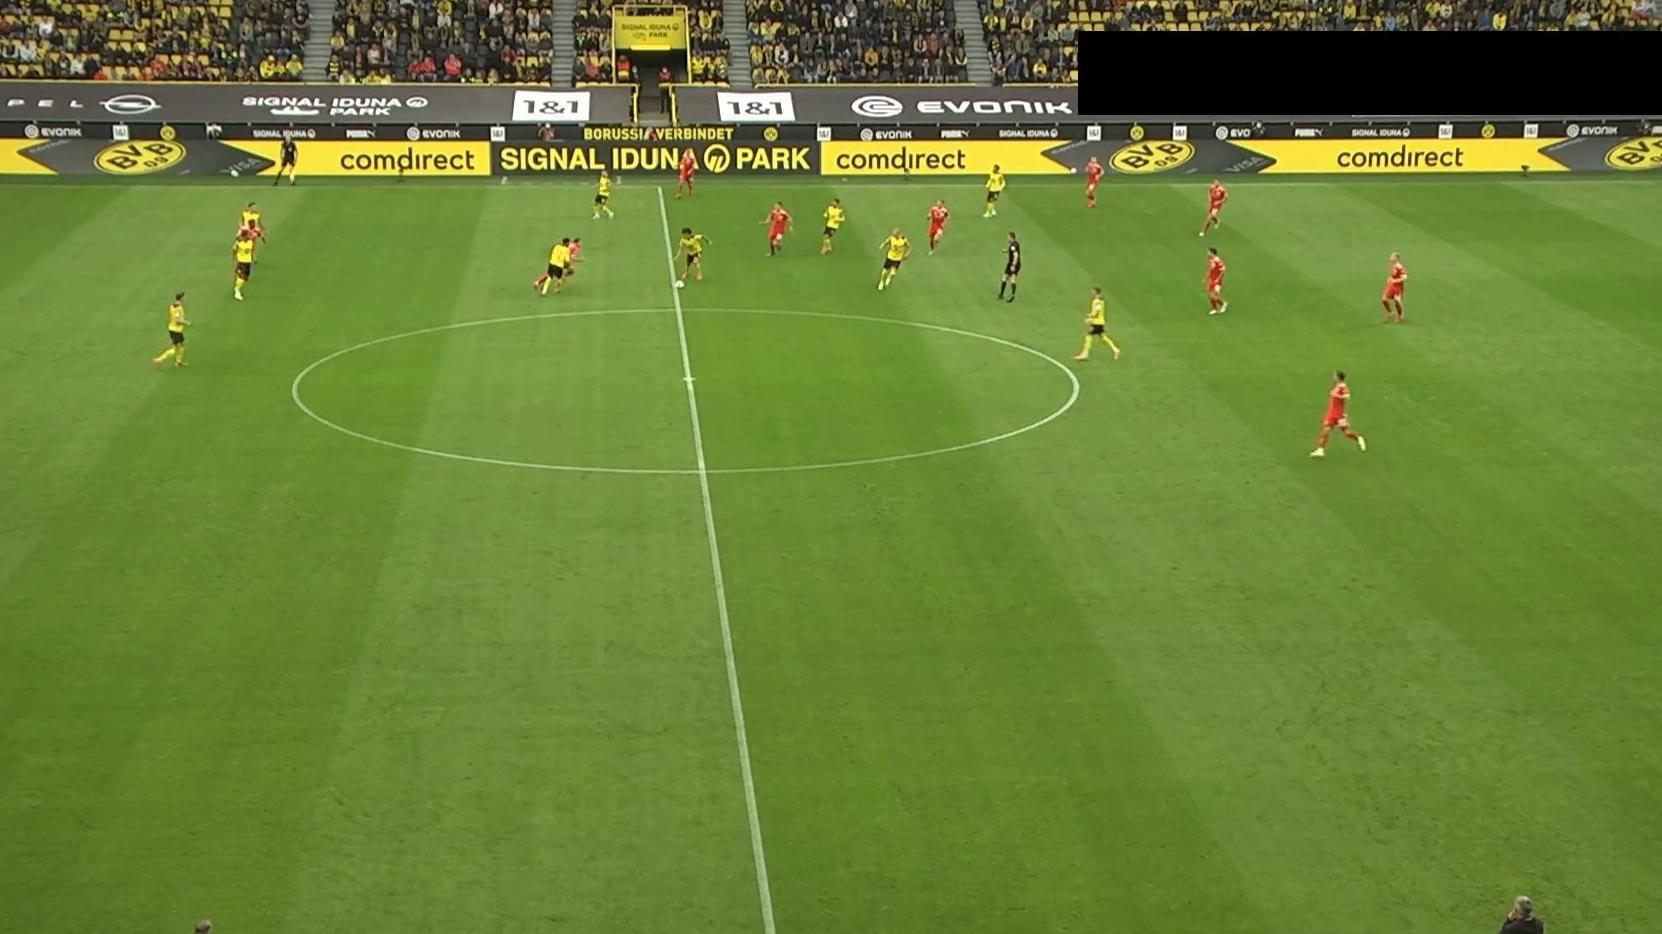ball: (673, 279, 685, 290)
